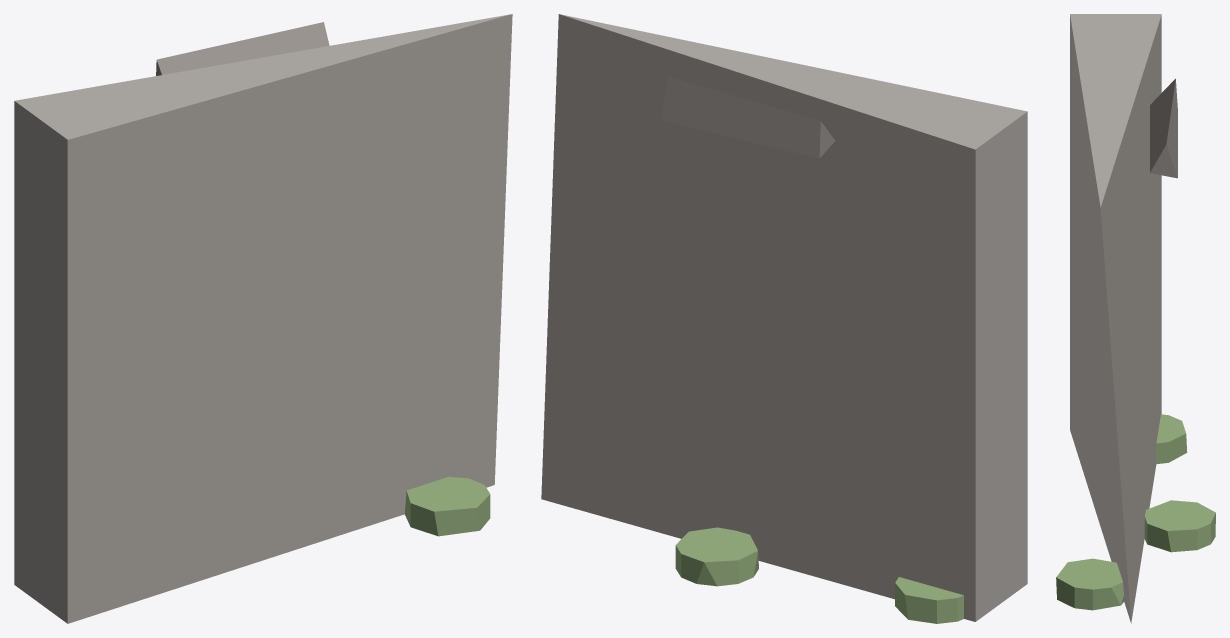
File: 27-Islas-Ubicaciones_cascada.glb
3 renders of one model, left to right at view 1: azimuth 30°, elevation 25°; view 2: azimuth 150°, elevation 25°; view 3: azimuth 270°, elevation 25°, orthographic. The views are drawn at different scales.
Parts seen in each view (by area): view 1: SM_Cascada_M_Cascada_Roca, SM_Cascada_M_Cascada_Musgo, SM_Cascada_M_Cascada_Roca_Osc; view 2: SM_Cascada_M_Cascada_Roca, SM_Cascada_M_Cascada_Roca_Osc, SM_Cascada_M_Cascada_Musgo; view 3: SM_Cascada_M_Cascada_Roca, SM_Cascada_M_Cascada_Musgo, SM_Cascada_M_Cascada_Roca_Osc.
Part boxes in pixels (x1,y1,x2,y2): SM_Cascada_M_Cascada_Roca: (14,14,512,623); SM_Cascada_M_Cascada_Musgo: (404,477,490,536); SM_Cascada_M_Cascada_Roca_Osc: (156,22,329,75); SM_Cascada_M_Cascada_Roca: (541,14,1027,621); SM_Cascada_M_Cascada_Roca_Osc: (661,76,835,158); SM_Cascada_M_Cascada_Musgo: (675,527,963,623); SM_Cascada_M_Cascada_Roca: (1070,14,1161,623); SM_Cascada_M_Cascada_Musgo: (1056,414,1215,610); SM_Cascada_M_Cascada_Roca_Osc: (1150,78,1177,178).
Bounding box in the file's own units: 4 × 4.01 × 1.39.
